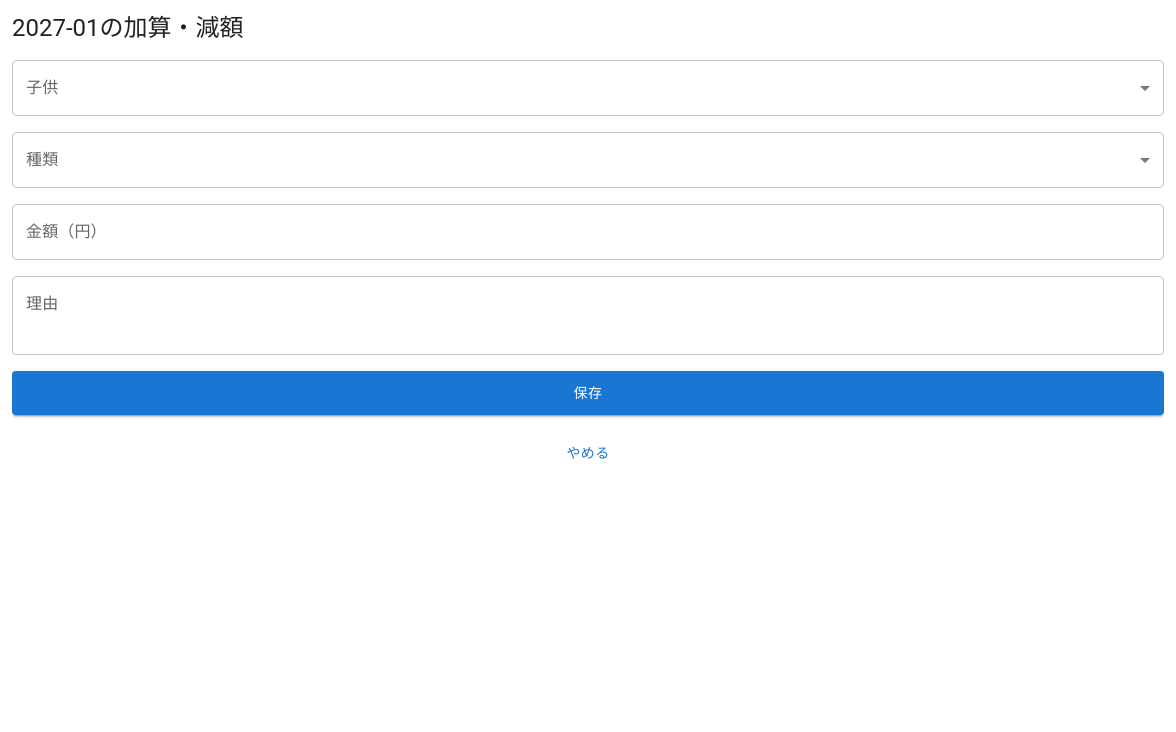
Test case: 調整の入力と不明な結果 › 24時間を超えた不明要求は送信せず一覧確認にする
Select "太郎" in the dropdown labelled "子供". click: (588, 88)
box: [12,60,1164,116]
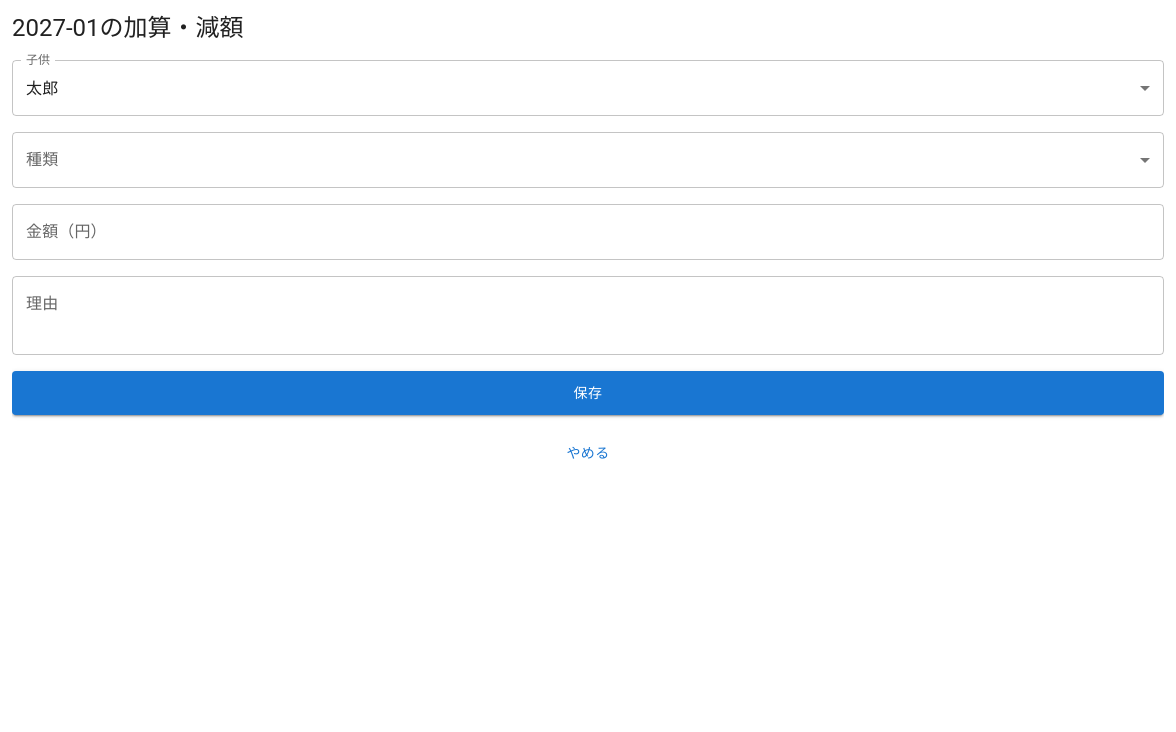
Select "減額" in the dropdown labelled "種類". click: (588, 160)
box: [12,132,1164,188]
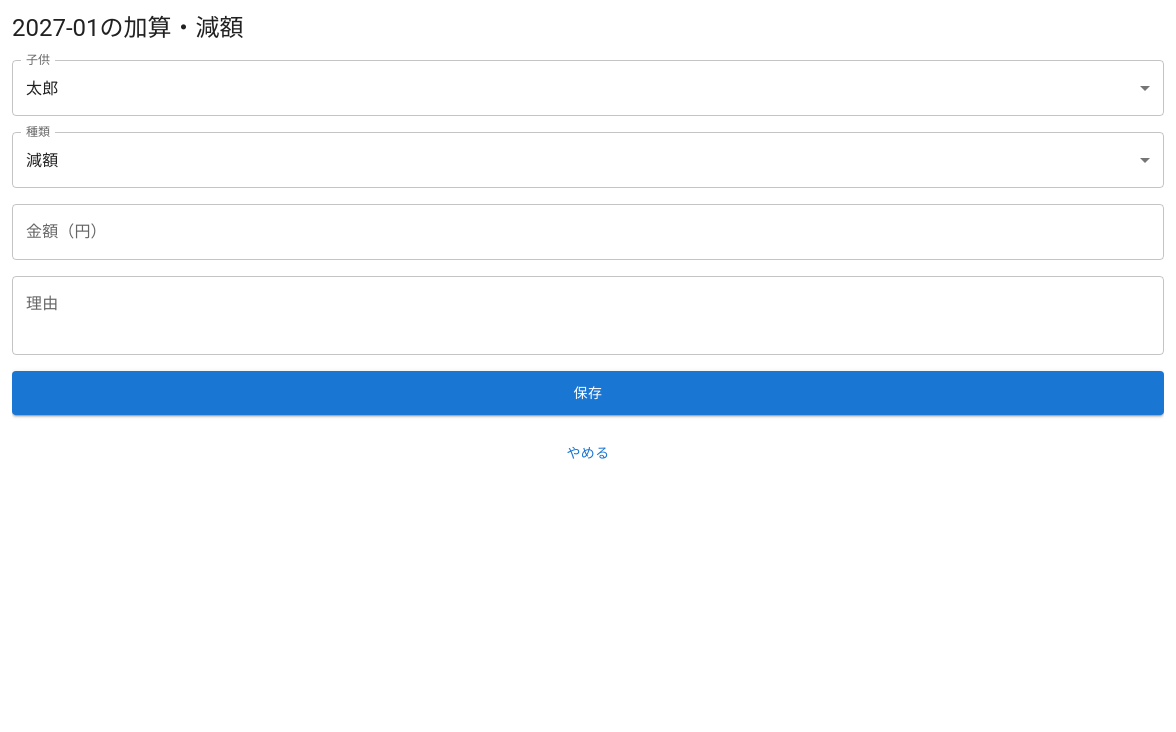
Type "200" into the field labelled "金額（円）". click: (588, 232)
box: [12,204,1164,260]
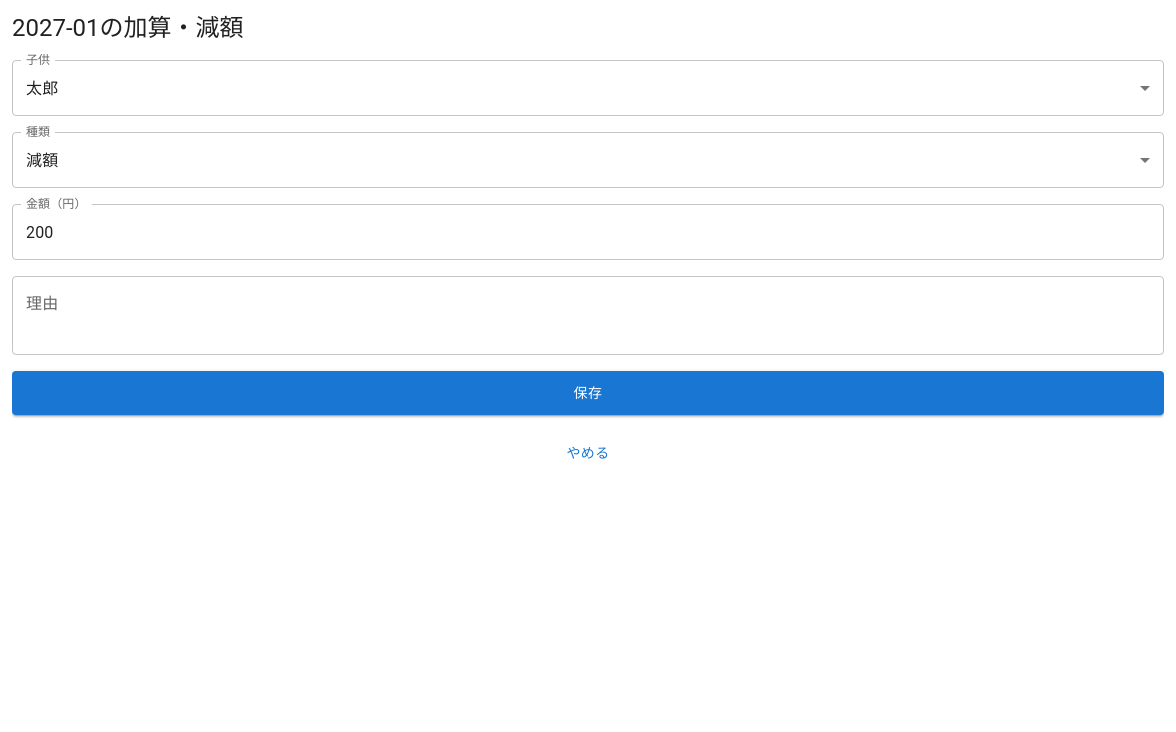
Type "追加の理由" into the text box labelled "理由". click: (588, 316)
box: [26,292,1150,338]
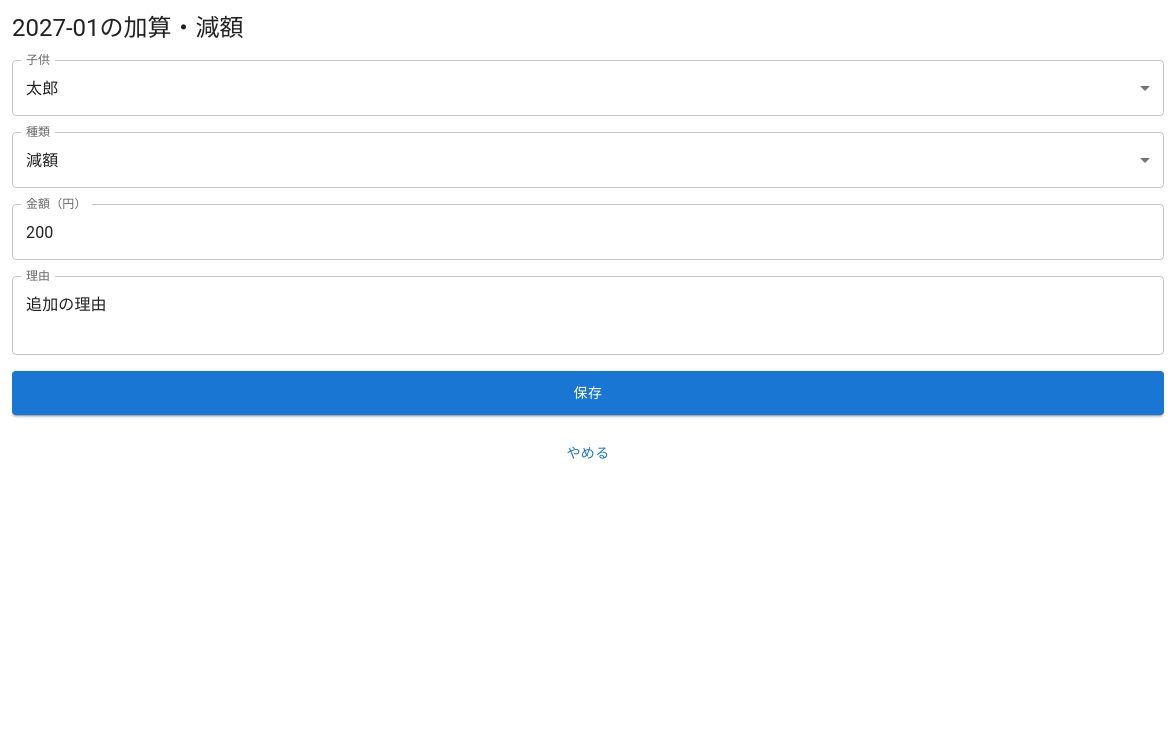
Click the button with test id "adjustment-save". click: (588, 393)
box: [12,371,1164,415]
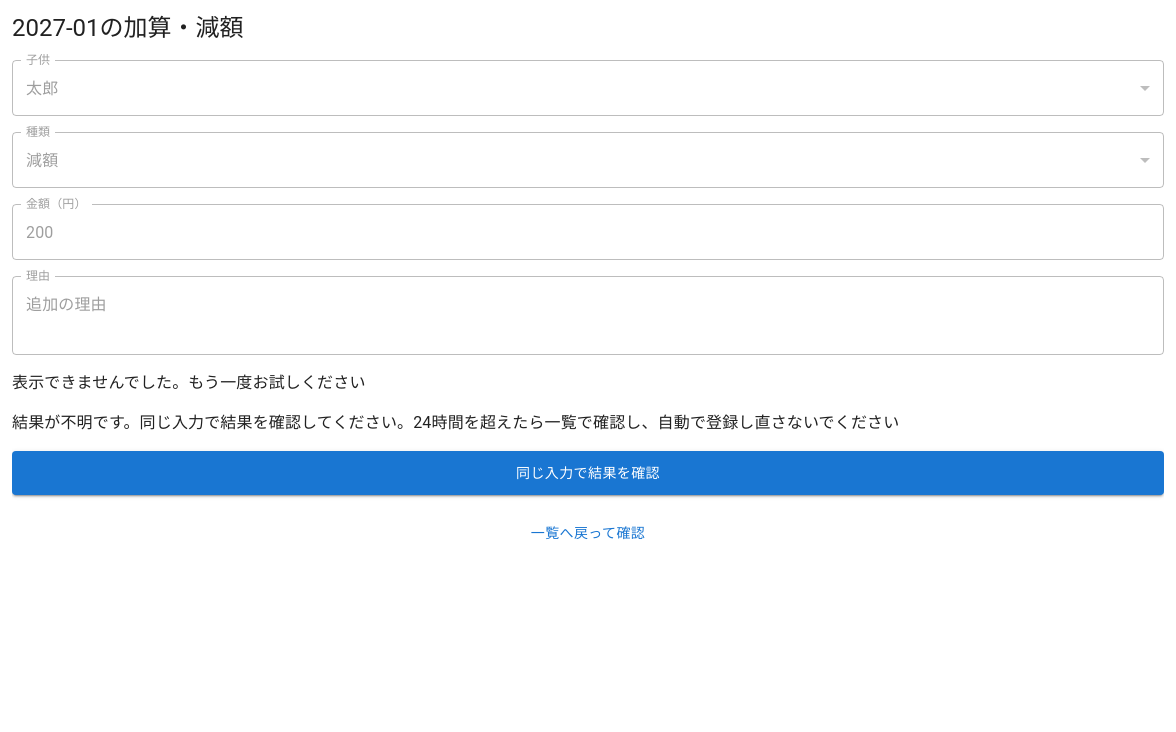
Now the text "結果が不明です。同じ入力で結果を確認してください。24時間を超えたら一覧で確認し、自動で登録し直さないでください" is shown, box [12,413,899,432]
Click the button with test id "adjustment-save". click: (588, 473)
box: [12,451,1164,495]
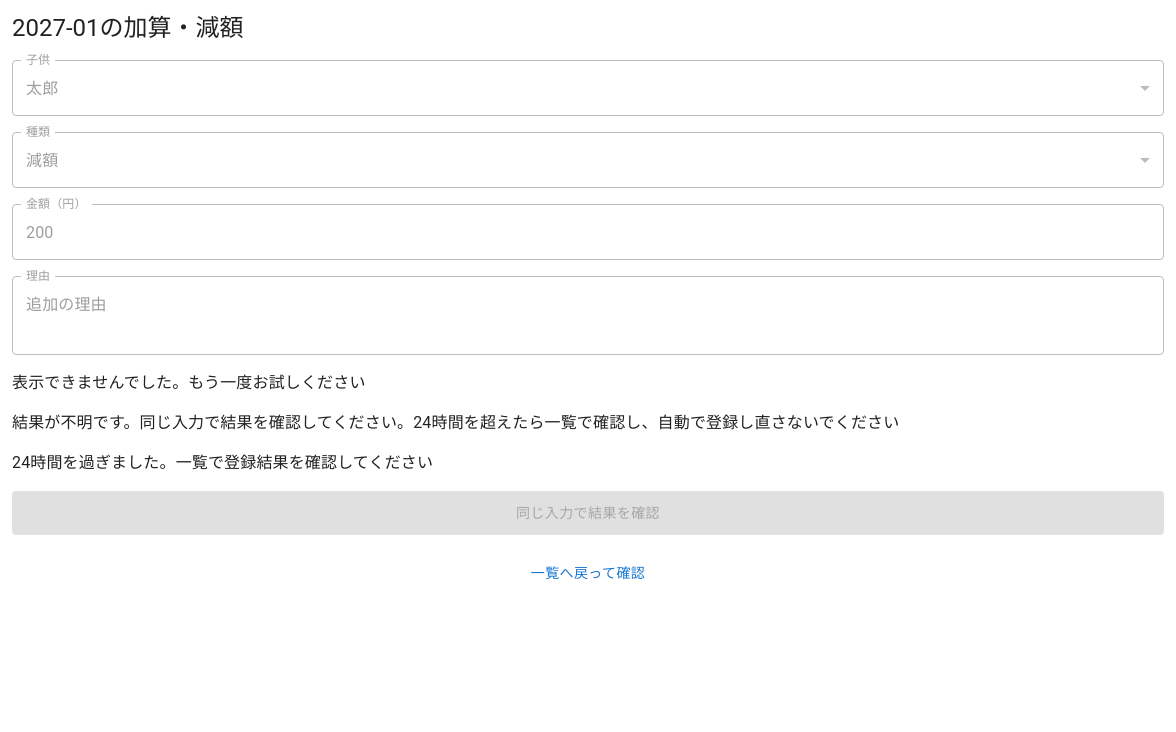
Now the text "24時間を過ぎました。一覧で登録結果を確認してください" is shown, box [12,453,433,472]
